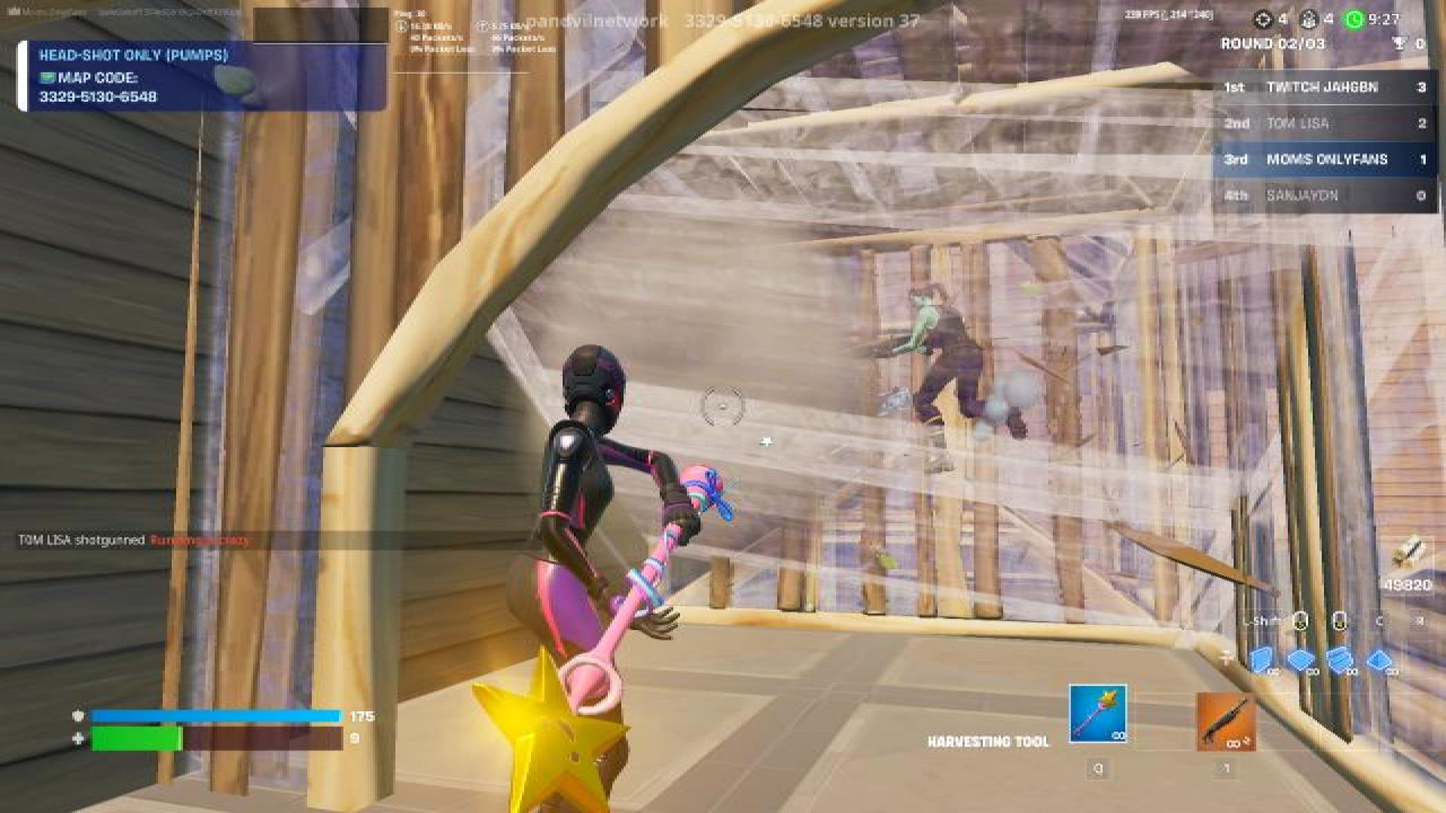player: (862, 268, 1027, 479)
